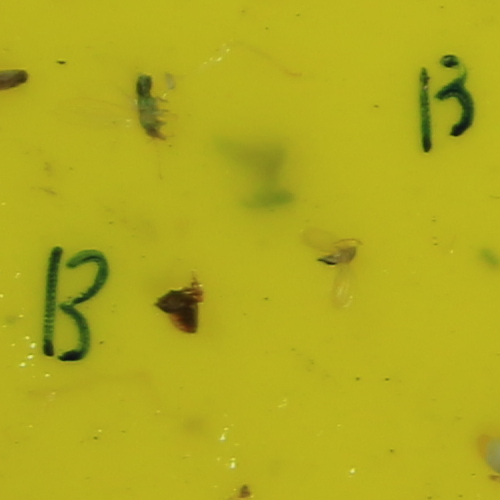psylla: (131, 73, 175, 143), (309, 233, 363, 272)
